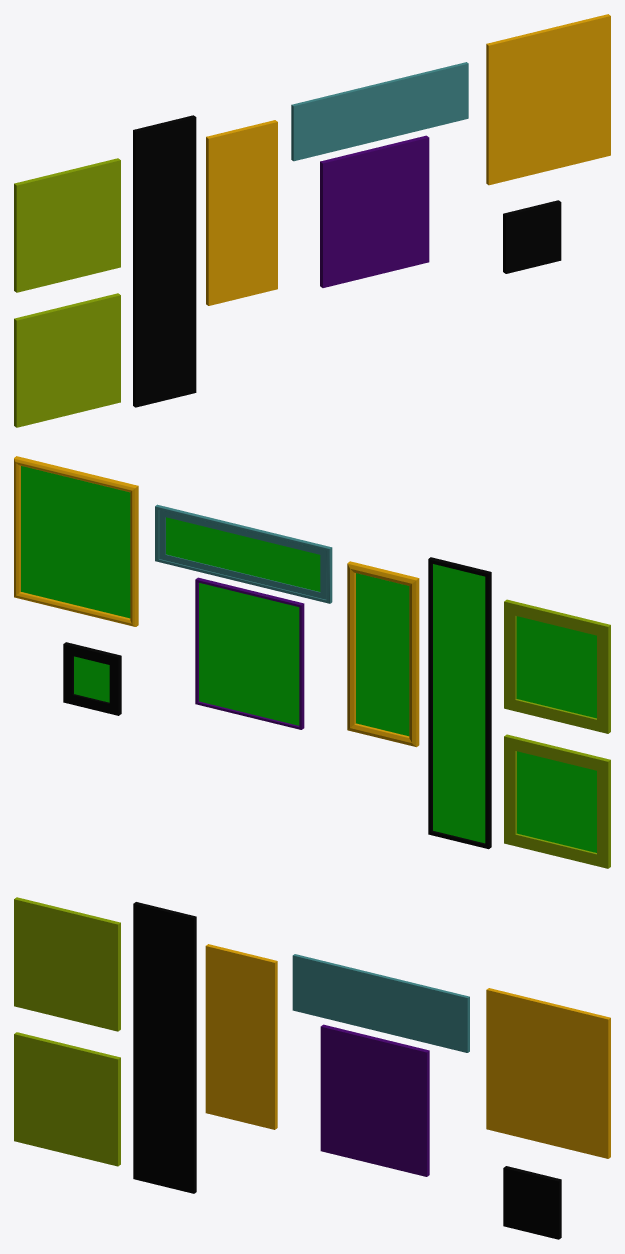
The picture shows the model from 3 angles, top to bottom: view 1: azimuth 30°, elevation 25°; view 2: azimuth 150°, elevation 25°; view 3: azimuth 330°, elevation 25°; orthographic projection.
Parts seen in each view (by area): view 1: pCube158; view 2: pCube158; view 3: pCube158.
Boxes of the visible parts, x1=… form: pCube158: x1=14, y1=14, x2=610, y2=427; pCube158: x1=14, y1=456, x2=610, y2=868; pCube158: x1=14, y1=897, x2=610, y2=1239.
Bounding box in the file's own units: 472 × 209 × 5.63.
